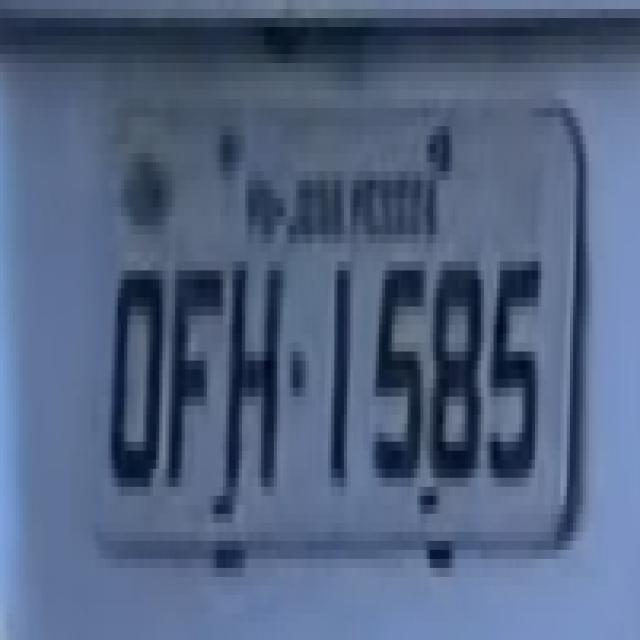Placa_mercosul_carro: (91, 100, 584, 552)
